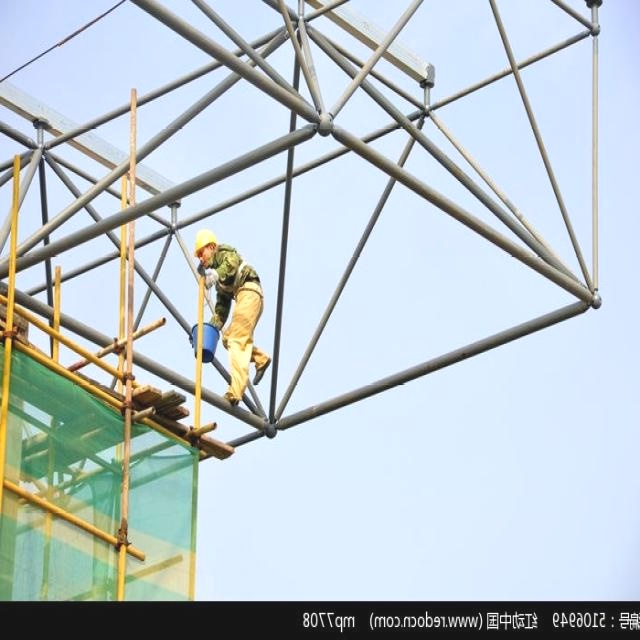Con_Casco: (195, 226, 216, 267)
